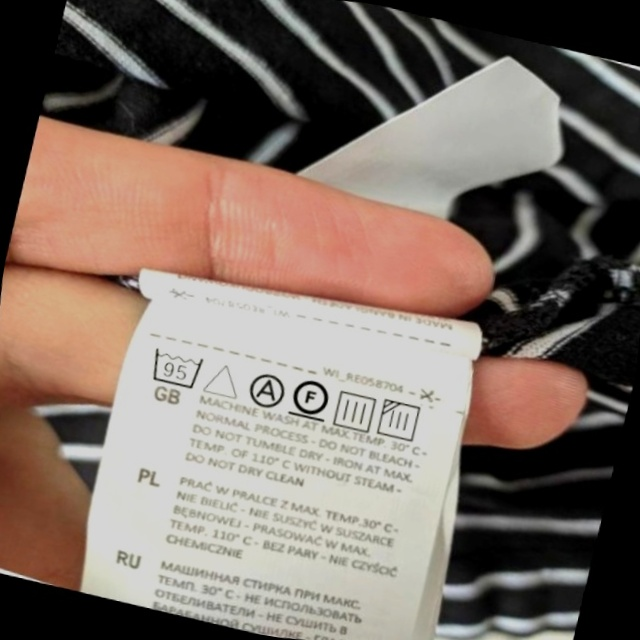95C: (143, 340, 211, 396)
bleach: (200, 353, 247, 405)
drip_dry: (327, 383, 383, 438)
drip_dry_in_shade: (372, 393, 431, 450)
dry_clean: (241, 366, 291, 414)
dry_clean_petrol_only: (285, 369, 338, 427)
